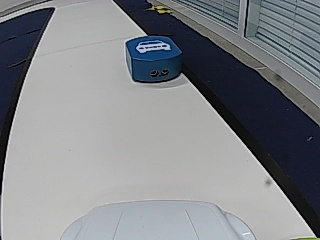safety: (135, 40, 170, 53)
